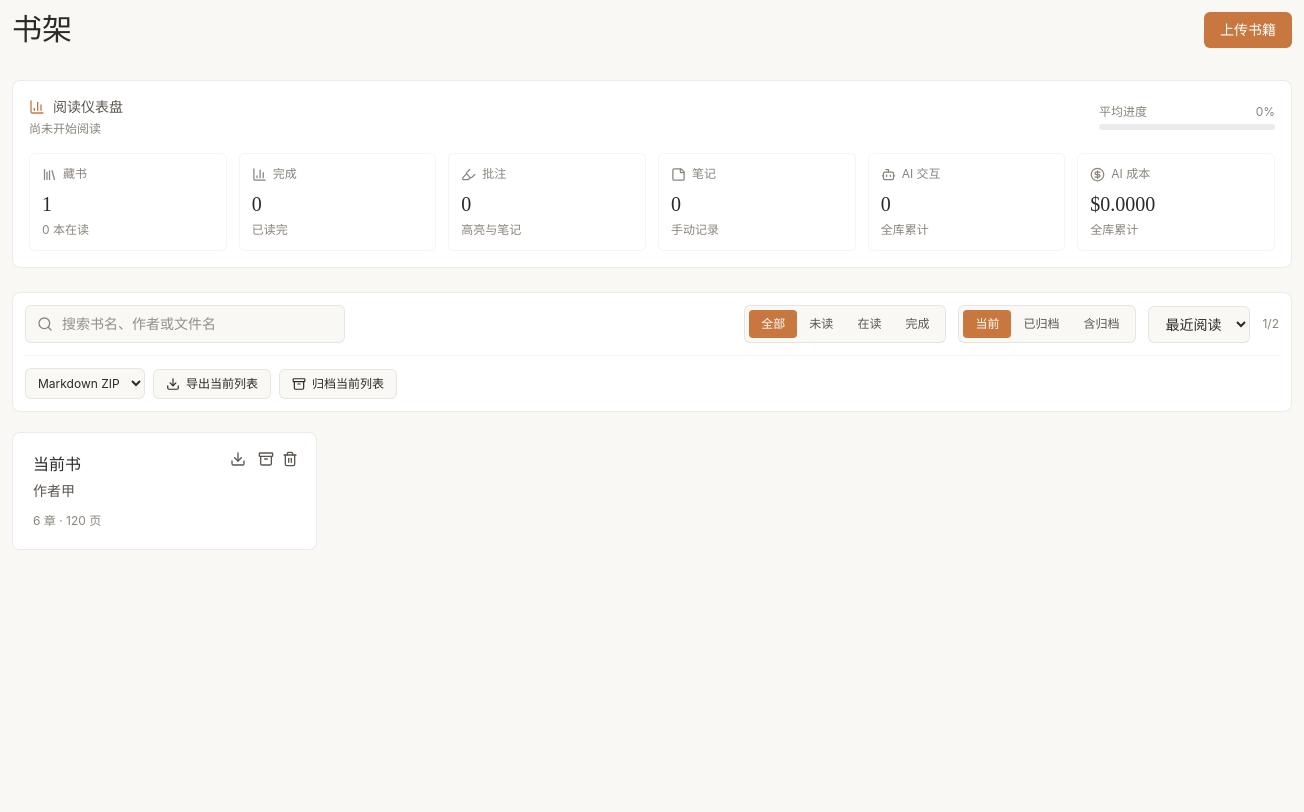
Test: BookList › exposes shelf filters and updates the visible result summary
The width and height of the screenshot is (1304, 812).
Expected: the message reads "1/2", left=1262, top=316, right=1279, bottom=332
Expected: the text "当前书" is shown, left=33, top=456, right=81, bottom=473
Step 1. Click the button "含归档" → (1101, 324), box left=1071, top=310, right=1131, bottom=338
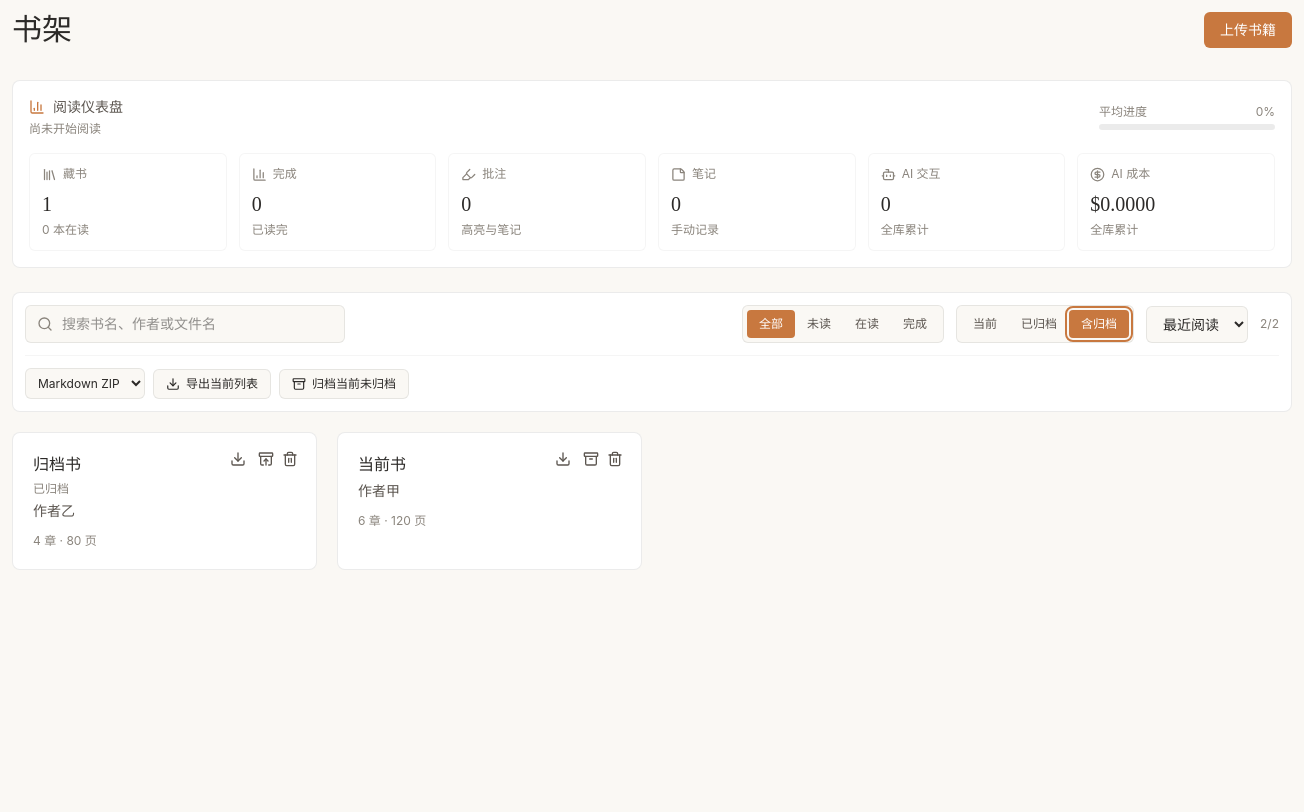
Result: the message reads "2/2" at left=1260, top=316, right=1279, bottom=332
Result: the text "归档书" is shown at left=33, top=456, right=81, bottom=473
Step 2. Click the button "已归档" → (1039, 324), box left=1009, top=310, right=1069, bottom=338
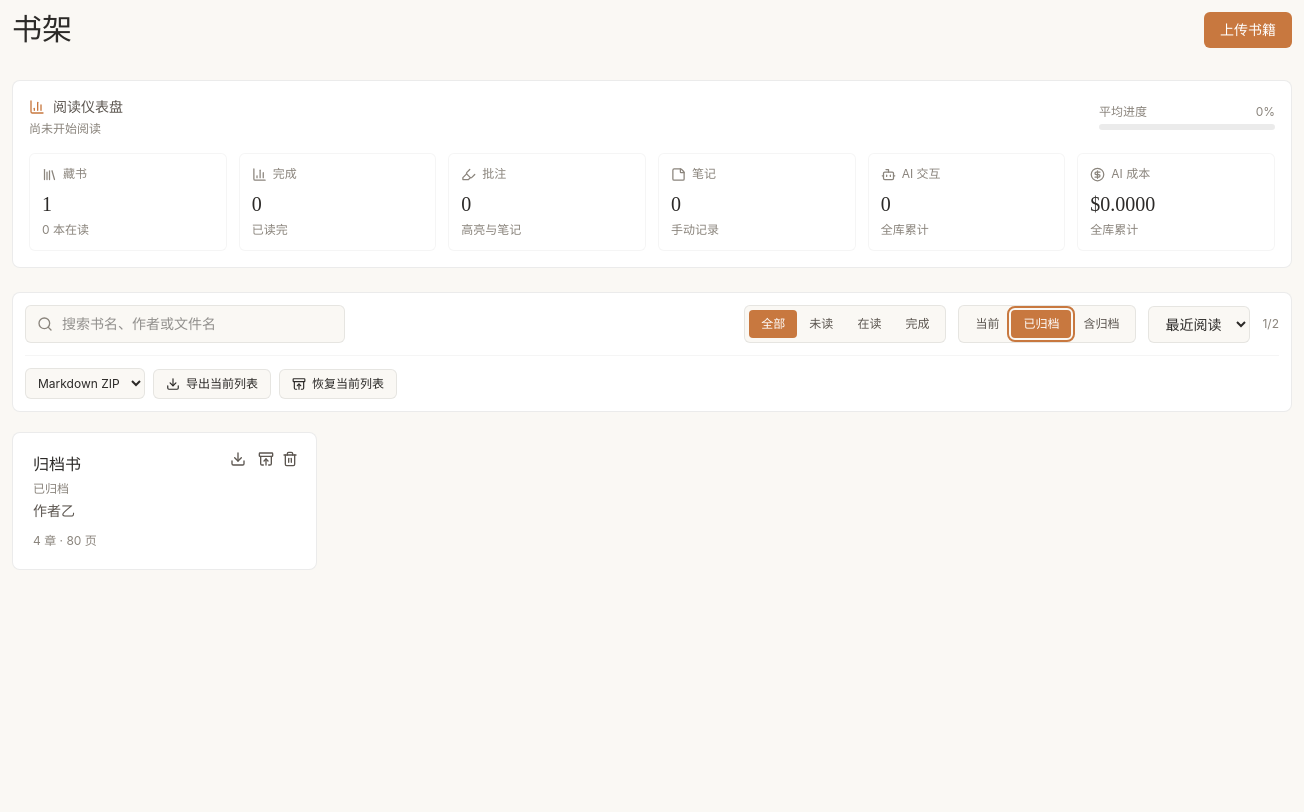
Result: the text "归档书" is shown at left=33, top=456, right=81, bottom=473
Result: the message reads "1/2" at left=1262, top=316, right=1279, bottom=332
Result: the link "当前书" is gone
